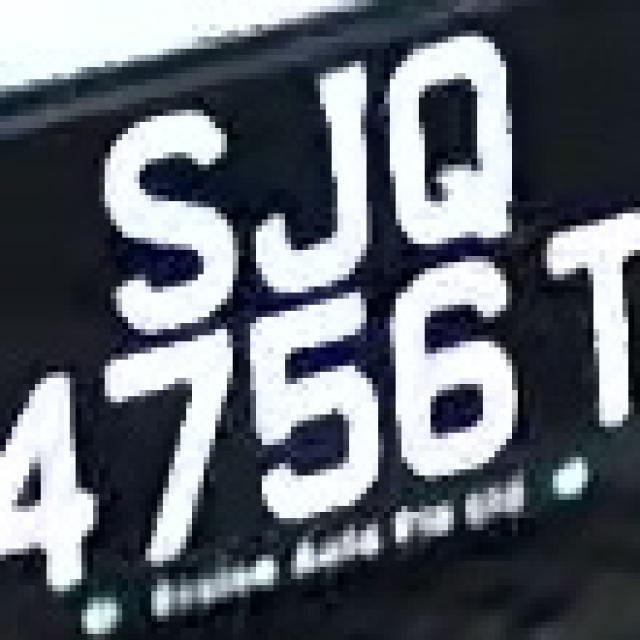4: (11, 335, 104, 628)
5: (239, 274, 413, 536)
6: (372, 262, 524, 494)
7: (99, 323, 238, 573)
J: (245, 55, 372, 299)
Q: (366, 24, 530, 262)
S: (82, 91, 245, 366)
T: (512, 207, 640, 463)
